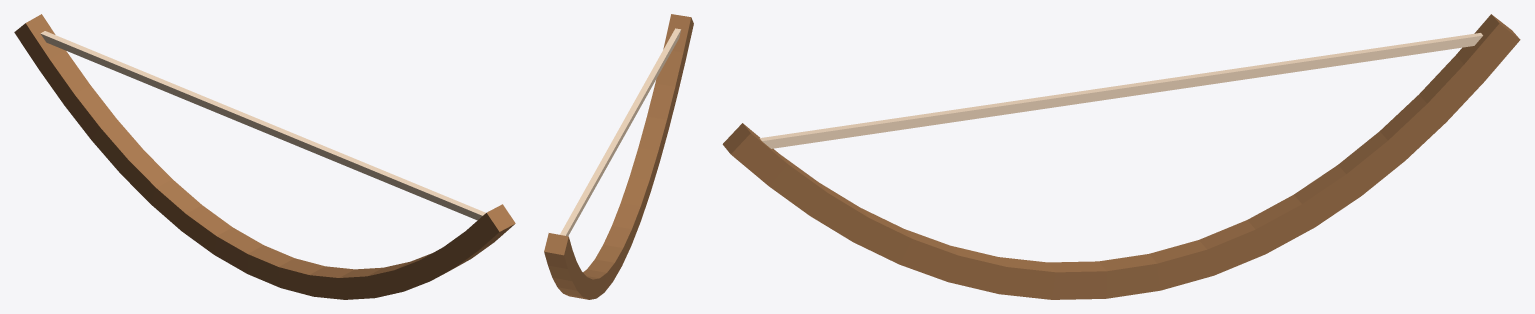
Rendered from bow.gltf.
The picture shows the model from 3 angles, left to right: view 1: azimuth 30°, elevation 25°; view 2: azimuth 150°, elevation 25°; view 3: azimuth 270°, elevation 25°; orthographic projection. The views are drawn at different scales.
Visible parts, largest first — view 1: Bow; view 2: Bow; view 3: Bow.
Part boxes in pixels (x1,y1,x2,y2): Bow: (14, 14, 515, 299); Bow: (544, 14, 693, 299); Bow: (722, 14, 1520, 299).
Size of the model in its own units: 0.2995 by 0.2662 by 0.8823.
Materials: 1 (1 with a texture image).
